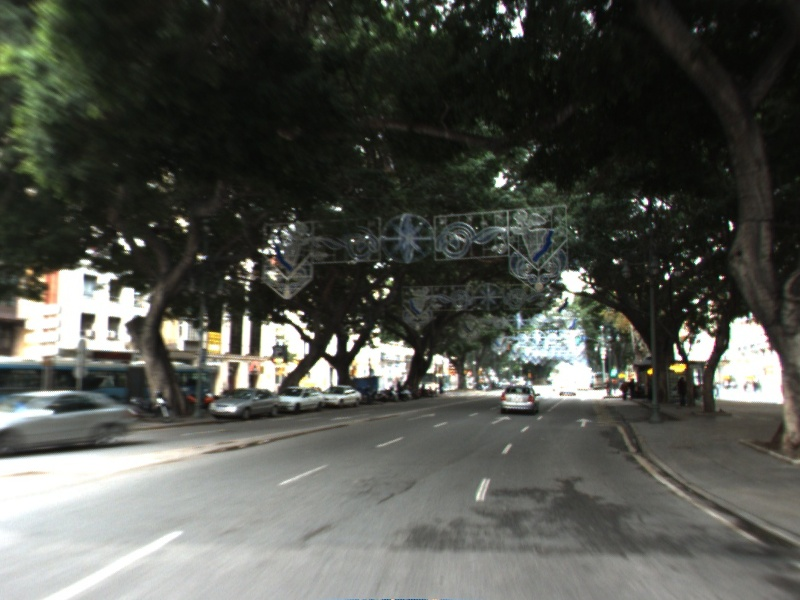STRAIGHT: (489, 413, 514, 426), (574, 416, 595, 429)
